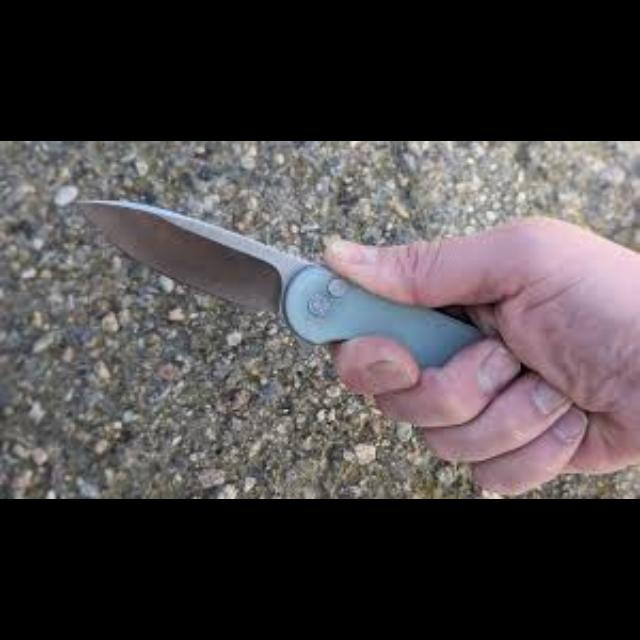knife: (290, 145, 640, 499), (344, 226, 640, 484), (74, 197, 483, 367)
